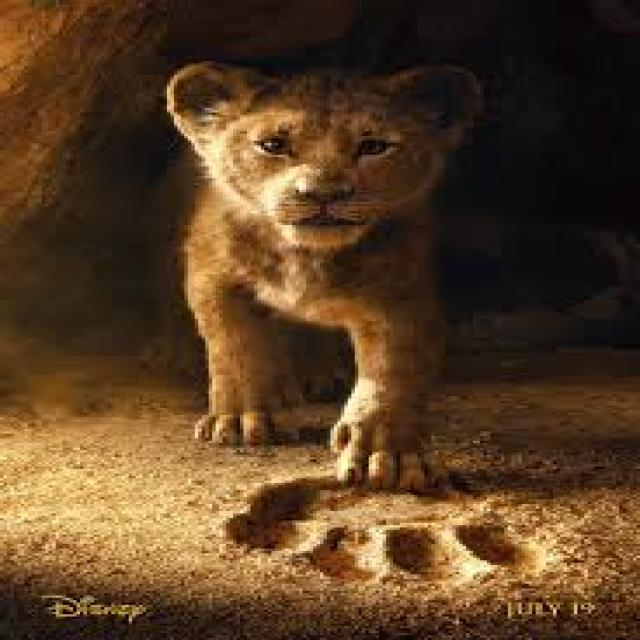Lion: (160, 56, 480, 495)
